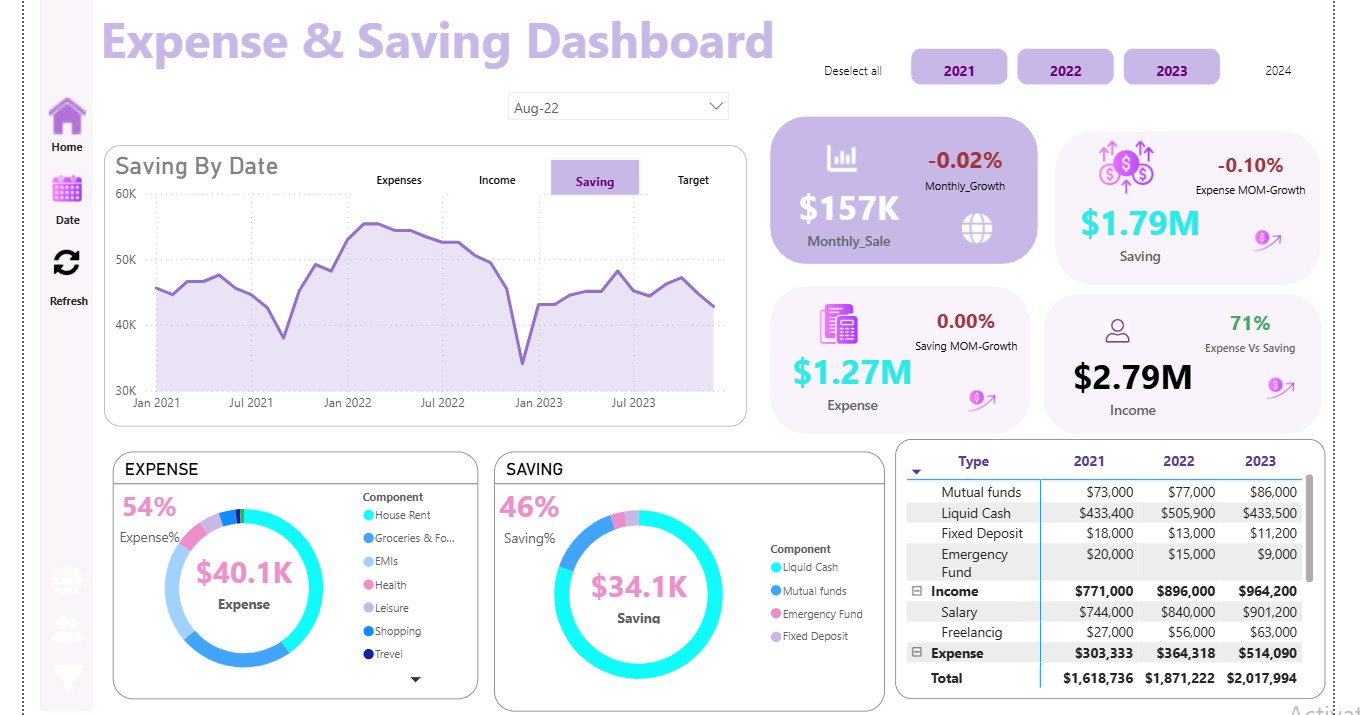

Layout of this report page (visuals, bound fields, positions):
{"tool":"powerbi","page":{"name":"Dashboard","canvas":[1280,720],"ordinal":0},"visuals":[{"type":"advancedSlicerVisual","fields":{"Values":["target.year"]},"box":[758.2,57.5,522.1,47.7],"z":1000},{"type":"actionButton","box":[884.1,234.8,45.2,37.9],"z":2000},{"type":"slicer","fields":{"Values":["Selected_date.Month-Year"]},"box":[463.5,95.4,236,47.7],"z":3000},{"type":"shape","box":[15.9,10.1,50.5,701.2],"z":4000},{"type":"donutChart","title":"EXPENSE ","fields":{"Category":["FinData.Component"],"Y":["Measure-Table.Expense"]},"box":[87.2,457.4,357.7,242.1],"z":5000},{"type":"donutChart","title":"SAVING","fields":{"Category":["FinData.Component"],"Y":["Measure-Table.Saving"]},"box":[459.2,457.4,382.7,254.5],"z":6000},{"type":"card","fields":{"Values":["Measure-Table.Saving"]},"box":[541.7,564.9,119.8,66],"z":7000},{"type":"card","fields":{"Values":["Measure-Table.Expense"]},"box":[159,547.8,112.5,73.4],"z":8000},{"type":"card","fields":{"Values":["Measure-Table.Expense%"]},"box":[86.6,483.3,72.1,73.6],"z":9000},{"type":"card","fields":{"Values":["Measure-Table.Saving%"]},"box":[458.8,483.3,72.1,73.6],"z":10000},{"type":"lineChart","fields":{"Y":["Measure-Table.Line_Chart_Measure"],"Category":["FinData.Date"]},"box":[77.9,157.3,629,275.6],"z":11000},{"type":"pivotTable","fields":{"Rows":["FinData.Type","FinData.Component"],"Values":["Measure-Table.Total"],"Columns":["FinData.year"]},"box":[857.9,457.4,421.8,254.5],"z":12000},{"type":"shape","box":[998.4,303,271.2,137.1],"z":13000},{"type":"shape","box":[1008.8,144.3,259.2,150.4],"z":14000},{"type":"shape","box":[730,295.8,253.9,144.3],"z":15000},{"type":"shape","box":[730,129.6,261.7,144.3],"z":16000},{"type":"image","box":[17.3,106.8,50.5,46.2],"z":17000},{"type":"textbox","box":[11.5,144.3,59.2,31.7],"z":18000},{"type":"image","box":[24.5,253.9,34.6,36.1],"z":19000},{"type":"textbox","box":[17.1,294.7,59.9,31.8],"z":20000},{"type":"advancedSlicerVisual","fields":{"Values":["Line_Selection_Table.Type"]},"box":[317.4,165.9,389.5,46.2],"z":21000},{"type":"textbox","box":[69.3,15.9,689.6,79.4],"z":22000},{"type":"card","fields":{"Values":["Measure-Table.Expense"]},"box":[738.7,344.8,144.3,85.1],"z":23000},{"type":"card","fields":{"Values":["Measure-Table.Income"]},"box":[1018.6,356.4,132.7,73.6],"z":24000},{"type":"card","fields":{"Values":["Measure-Table.Monthly_Sale"]},"box":[738.7,184.7,137.1,85.1],"z":25000},{"type":"card","fields":{"Values":["Measure-Table.Saving"]},"box":[1018.6,202,147.2,80.8],"z":26000},{"type":"actionButton","box":[23.2,611.4,45.2,39.1],"z":27000},{"type":"card","fields":{"Values":["Measure-Table.Exp_Vs_Sav"]},"box":[1129.7,304.4,139.9,70.7],"z":28000},{"type":"textbox","box":[11.5,215,60.6,30.3],"z":29000},{"type":"actionButton","box":[21.6,180.3,47.6,40.4],"z":30000},{"type":"card","fields":{"Values":["Measure-Table.Monthly_Growth"]},"box":[852.7,144.3,137.1,70.7],"z":32000},{"type":"card","fields":{"Values":["Measure-Table.Exp_MOM_Gr"]},"box":[1131.1,149.2,138.2,70.9],"z":33000},{"type":"card","fields":{"Values":["Measure-Table.Sav_MOM_Gr"]},"box":[853.5,302,137,70.9],"z":34000},{"type":"actionButton","box":[23.1,249.6,40.4,40.4],"z":35000},{"type":"image","box":[767.9,305.7,58.7,53.8],"z":36000},{"type":"image","box":[907.3,387.6,58.7,40.4],"z":37000},{"type":"image","box":[1022.3,144.3,111.3,70.9],"z":38000},{"type":"image","box":[1199.6,375.4,58.7,40.4],"z":39000},{"type":"image","box":[1187.4,231.1,57.5,40.4],"z":40000},{"type":"image","box":[1040.2,323.2,57.7,33.2],"z":41000},{"type":"actionButton","box":[781.4,151.6,45.2,37.9],"z":43000},{"type":"actionButton","box":[913.5,220.1,45.2,37.9],"z":44000},{"type":"actionButton","box":[23.2,564.9,45.2,37.9],"z":45000},{"type":"actionButton","box":[24.5,659.1,37.9,40.4],"z":46000}]}

Visuals, with their boxes on the page's 1280x720 design canvas (x1, y1, x2, y2). These are canvas units, not pixel positions in the 1360x715 screenshot, which may show the page scaled, cropped or inside an application window:
advancedSlicerVisual - target.year: [x1=758, y1=58, x2=1280, y2=105]
actionButton: [x1=884, y1=235, x2=929, y2=273]
slicer - Selected_date.Month-Year: [x1=464, y1=95, x2=700, y2=143]
shape: [x1=16, y1=10, x2=66, y2=711]
"EXPENSE " donutChart: [x1=87, y1=457, x2=445, y2=700]
"SAVING" donutChart: [x1=459, y1=457, x2=842, y2=712]
card - Measure-Table.Saving: [x1=542, y1=565, x2=662, y2=631]
card - Measure-Table.Expense: [x1=159, y1=548, x2=272, y2=621]
card - Measure-Table.Expense%: [x1=87, y1=483, x2=159, y2=557]
card - Measure-Table.Saving%: [x1=459, y1=483, x2=531, y2=557]
lineChart - Measure-Table.Line_Chart_Measure x FinData.Date: [x1=78, y1=157, x2=707, y2=433]
pivotTable - FinData.Type x FinData.Component: [x1=858, y1=457, x2=1280, y2=712]
shape: [x1=998, y1=303, x2=1270, y2=440]
shape: [x1=1009, y1=144, x2=1268, y2=295]
shape: [x1=730, y1=296, x2=984, y2=440]
shape: [x1=730, y1=130, x2=992, y2=274]
image: [x1=17, y1=107, x2=68, y2=153]
textbox: [x1=12, y1=144, x2=71, y2=176]
image: [x1=24, y1=254, x2=59, y2=290]
textbox: [x1=17, y1=295, x2=77, y2=326]
advancedSlicerVisual - Line_Selection_Table.Type: [x1=317, y1=166, x2=707, y2=212]
textbox: [x1=69, y1=16, x2=759, y2=95]
card - Measure-Table.Expense: [x1=739, y1=345, x2=883, y2=430]
card - Measure-Table.Income: [x1=1019, y1=356, x2=1151, y2=430]
card - Measure-Table.Monthly_Sale: [x1=739, y1=185, x2=876, y2=270]
card - Measure-Table.Saving: [x1=1019, y1=202, x2=1166, y2=283]
actionButton: [x1=23, y1=611, x2=68, y2=650]
card - Measure-Table.Exp_Vs_Sav: [x1=1130, y1=304, x2=1270, y2=375]
textbox: [x1=12, y1=215, x2=72, y2=245]
actionButton: [x1=22, y1=180, x2=69, y2=221]
card - Measure-Table.Monthly_Growth: [x1=853, y1=144, x2=990, y2=215]
card - Measure-Table.Exp_MOM_Gr: [x1=1131, y1=149, x2=1269, y2=220]
card - Measure-Table.Sav_MOM_Gr: [x1=854, y1=302, x2=990, y2=373]
actionButton: [x1=23, y1=250, x2=64, y2=290]
image: [x1=768, y1=306, x2=827, y2=360]
image: [x1=907, y1=388, x2=966, y2=428]
image: [x1=1022, y1=144, x2=1134, y2=215]
image: [x1=1200, y1=375, x2=1258, y2=416]
image: [x1=1187, y1=231, x2=1245, y2=272]
image: [x1=1040, y1=323, x2=1098, y2=356]
actionButton: [x1=781, y1=152, x2=827, y2=190]
actionButton: [x1=914, y1=220, x2=959, y2=258]
actionButton: [x1=23, y1=565, x2=68, y2=603]
actionButton: [x1=24, y1=659, x2=62, y2=700]
